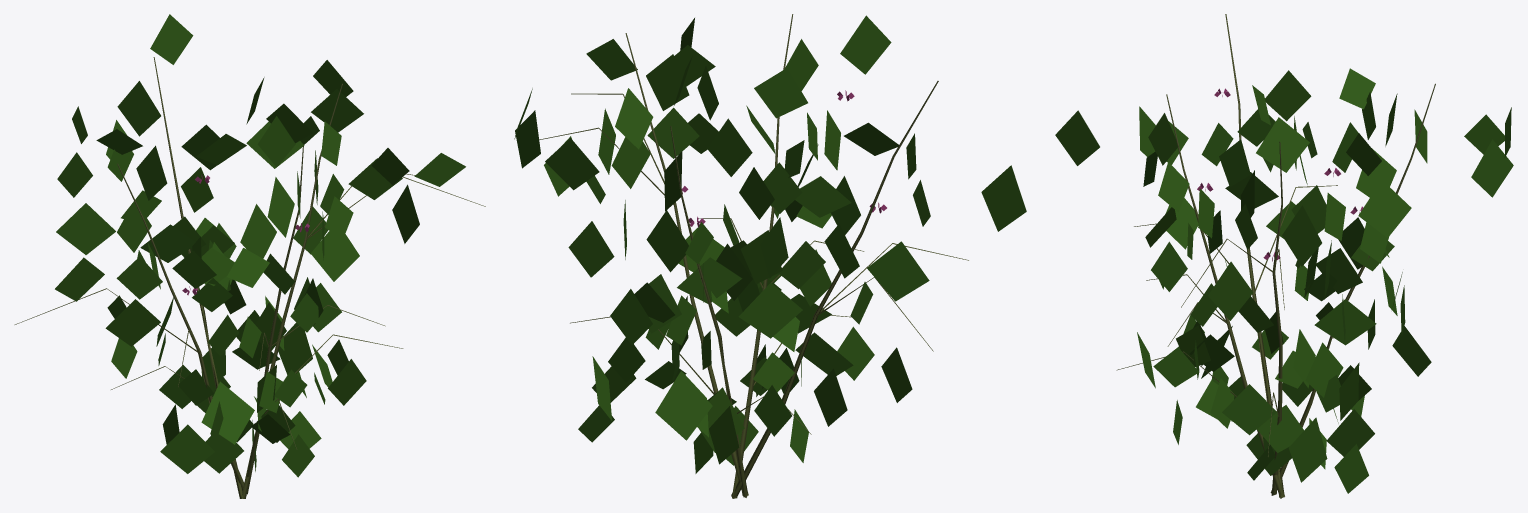
File: Shrub_FloweringRaspberry.glb
3 renders of one model, left to right at view 1: azimuth 30°, elevation 25°; view 2: azimuth 150°, elevation 25°; view 3: azimuth 270°, elevation 25°, orthographic. The views are drawn at different scales.
Parts seen in each view (by area): view 1: Shrub_FloweringRaspberry; view 2: Shrub_FloweringRaspberry; view 3: Shrub_FloweringRaspberry.
Part boxes in pixels (x1,y1,x2,y2): Shrub_FloweringRaspberry: [14, 14, 485, 498]; Shrub_FloweringRaspberry: [514, 14, 1026, 498]; Shrub_FloweringRaspberry: [1055, 14, 1513, 498].
Size of the model in its own units: 1.74 by 1.64 by 1.66.
